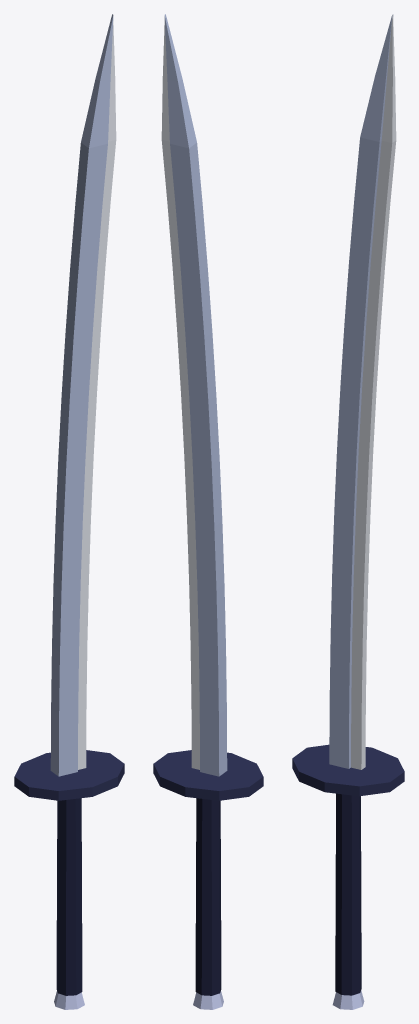
File: Sword_MoonlitOdachi.fbx
3 views of the same model, side by side, from view 1: azimuth 30°, elevation 25°; view 2: azimuth 150°, elevation 25°; view 3: azimuth 330°, elevation 25° (orthographic). The views are drawn at different scales.
Parts seen in each view (by area): view 1: Sword_MoonlitOdachi; view 2: Sword_MoonlitOdachi; view 3: Sword_MoonlitOdachi.
Boxes of the visible parts, x1,y1,x2,y2 form: Sword_MoonlitOdachi: (14, 14, 124, 1009); Sword_MoonlitOdachi: (153, 14, 263, 1009); Sword_MoonlitOdachi: (292, 14, 404, 1009).
Size of the model in its own units: 0.6182 by 6.04 by 0.52.
Materials: 1 (1 with a texture image).
